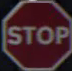Stop: (0, 3, 69, 64)
